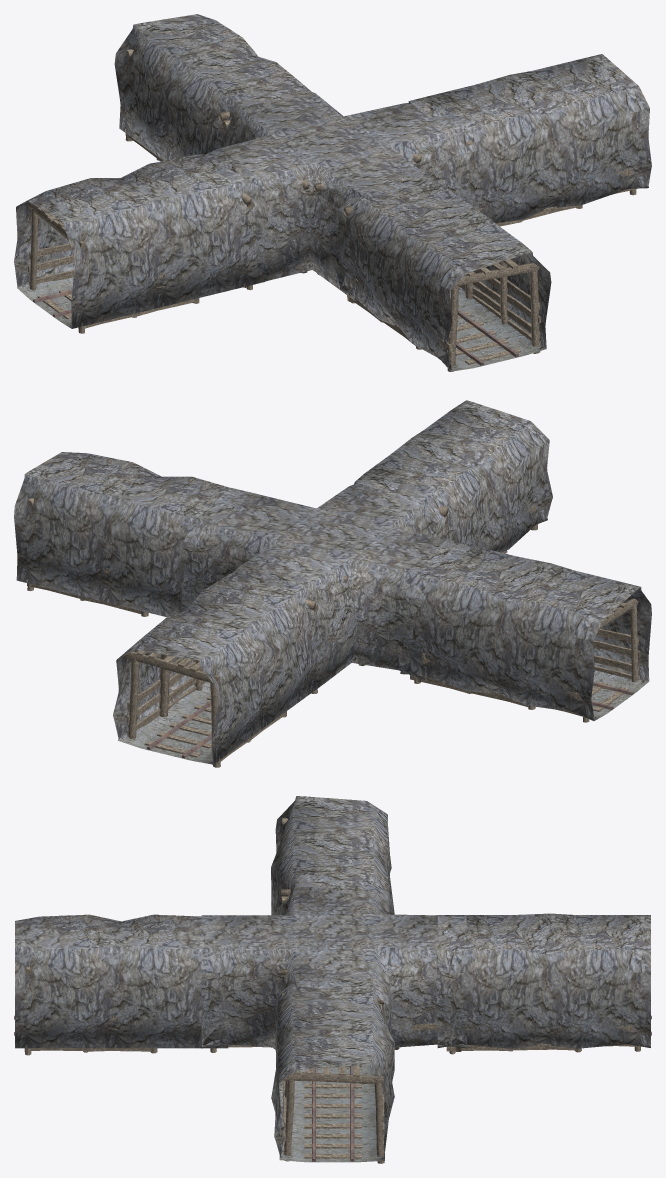
The model's file is Mine_05.fbx.
The picture shows the model from 3 angles, top to bottom: view 1: azimuth 30°, elevation 25°; view 2: azimuth 150°, elevation 25°; view 3: azimuth 270°, elevation 25°; orthographic projection. The views are drawn at different scales.
Parts seen in each view (by area): view 1: Mine_05; view 2: Mine_05; view 3: Mine_05.
Boxes of the visible parts, x1,y1,x2,y2 form: Mine_05: (14, 14, 651, 371); Mine_05: (14, 400, 651, 767); Mine_05: (14, 796, 651, 1163).
Size of the model in its own units: 1992 by 358 by 1992.
